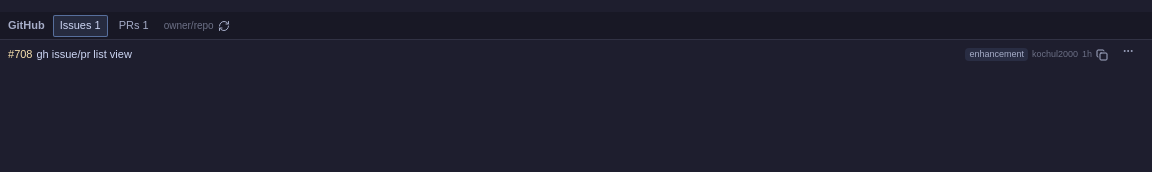
Test case: GitHubView › lists the repository's open issues and switches to pull requests
Expected: the text with test id "github-repo" reads "owner/repo", left=164, top=20, right=214, bottom=30
Expected: the element with test id "github-item-708" shows "gh issue/pr list view", left=36, top=48, right=132, bottom=60
Click the button with test id "github-tab-pulls".
click(134, 26)  # box left=112, top=14, right=156, bottom=36
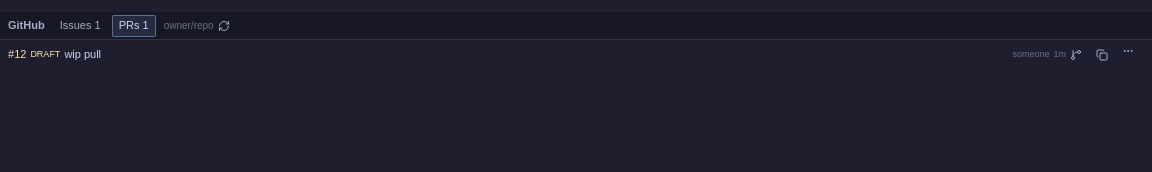
Expected: the element with test id "github-item-708" is gone
Expected: the element with test id "github-item-12" shows "wip pull", left=64, top=48, right=101, bottom=60
Expected: the text "DRAFT" is shown, left=30, top=48, right=60, bottom=61
